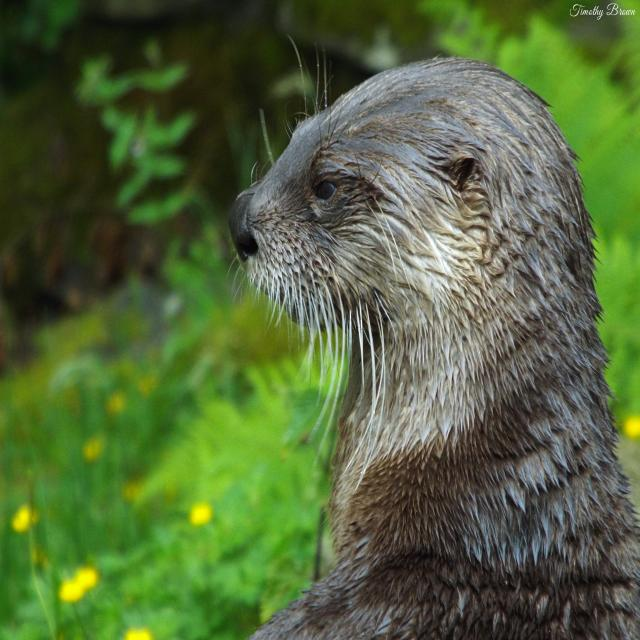otter: (229, 52, 640, 640)
